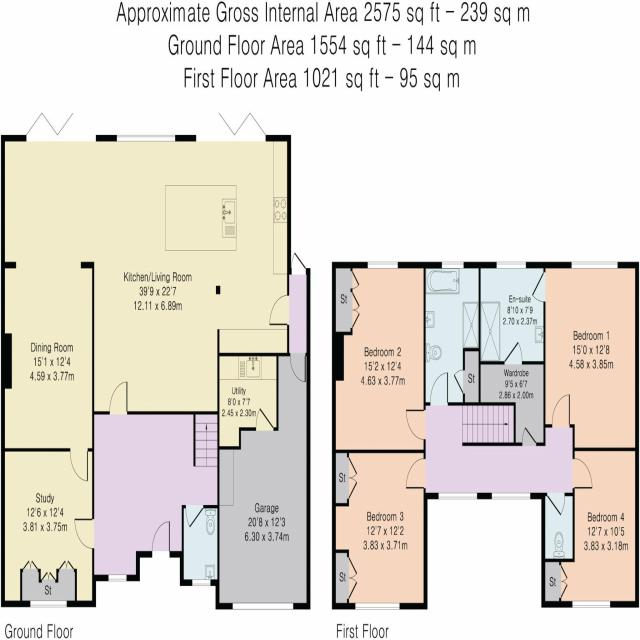DOOR: (74, 516, 95, 551), (151, 520, 170, 558), (551, 393, 571, 428), (429, 371, 449, 406), (405, 408, 426, 441), (269, 294, 290, 327), (405, 457, 426, 489), (109, 380, 128, 415), (69, 448, 88, 483), (572, 458, 593, 489), (255, 406, 275, 432), (531, 270, 546, 304), (289, 353, 306, 383), (546, 492, 565, 517), (504, 340, 523, 365), (185, 505, 204, 528), (521, 426, 537, 447)
FOLDING DOOR: (195, 106, 271, 145), (23, 107, 96, 143)
ROOM: (0, 110, 291, 483), (531, 261, 639, 452), (332, 262, 426, 453), (541, 447, 639, 608), (332, 449, 428, 610), (0, 447, 96, 608)
WINDOW: (571, 261, 619, 270), (355, 602, 401, 611), (438, 492, 478, 500), (491, 492, 531, 500), (572, 600, 611, 608), (30, 600, 67, 608), (496, 260, 527, 269), (367, 261, 398, 269), (441, 261, 464, 269), (108, 574, 127, 582), (192, 579, 211, 587)
